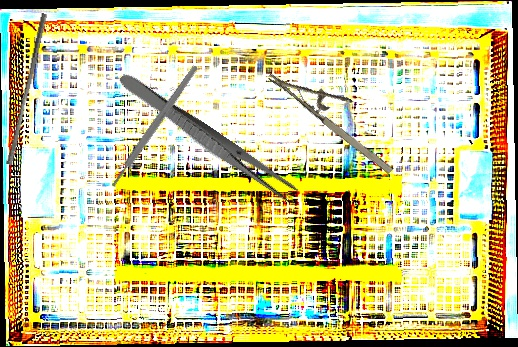Dressing Forceps: (113, 70, 301, 206)
Needle Holder: (267, 49, 410, 178)
Pusher: (5, 11, 48, 167)
Scalpel Handle: (109, 64, 200, 188)
